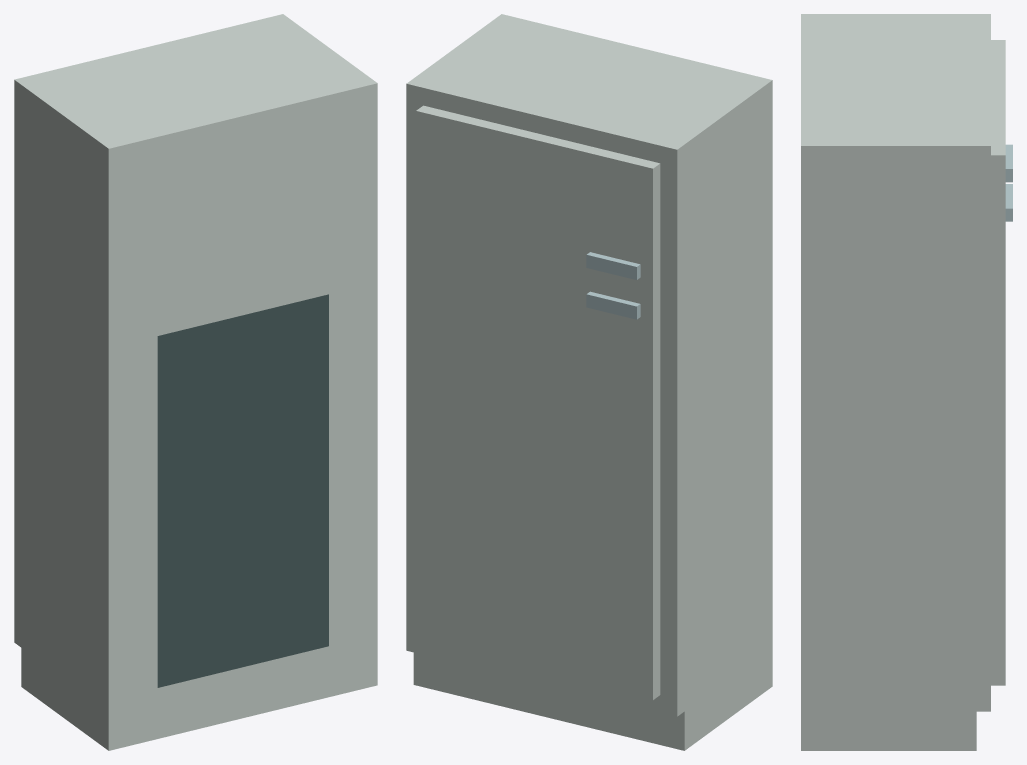
Rendered from kitchenFridge.obj.
3 renders of one model, left to right at view 1: azimuth 30°, elevation 25°; view 2: azimuth 150°, elevation 25°; view 3: azimuth 270°, elevation 25°, orthographic.
Parts seen in each view (by area): view 1: kitchenFridge; view 2: kitchenFridge, doorFridge, doorFreezer; view 3: kitchenFridge, doorFridge, doorFreezer.
Part boxes in pixels (x1,y1,x2,y2): kitchenFridge: (14,14,377,750); kitchenFridge: (406,14,772,750); doorFridge: (416,236,660,699); doorFreezer: (416,105,660,293); kitchenFridge: (801,14,990,750); doorFridge: (991,184,1012,685); doorFreezer: (991,40,1012,279).
Size of the model in its own units: 0.43 by 0.92 by 0.2919.
